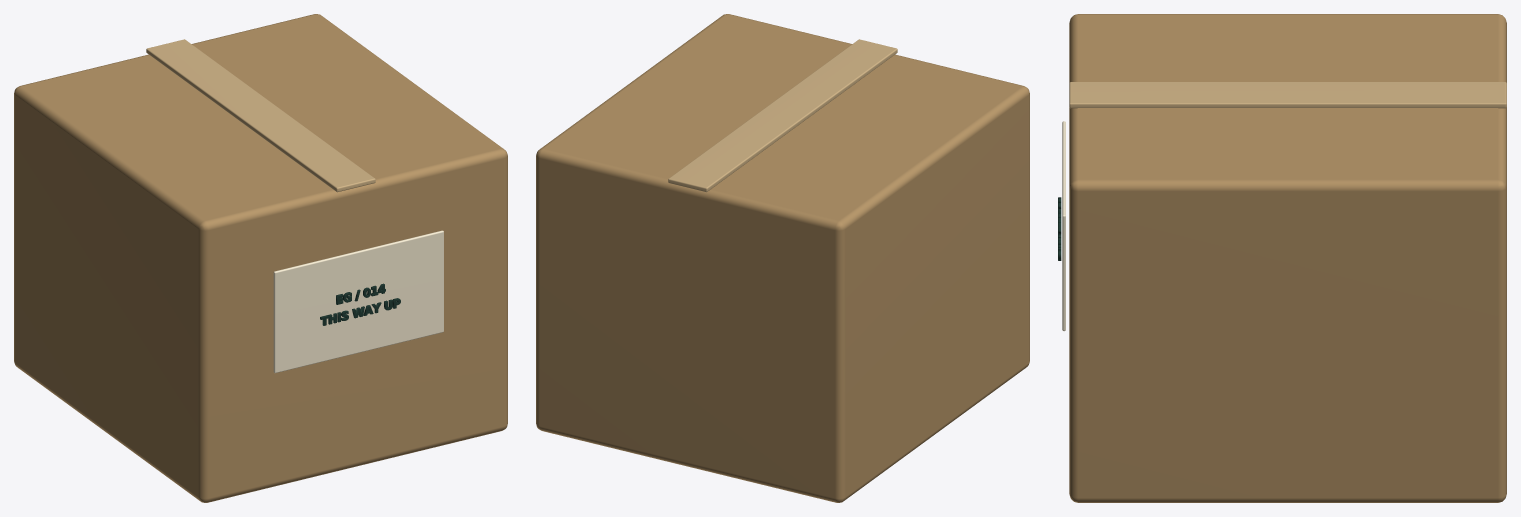
Rendered from SM_EG_ShippingCarton_Floor_691d3a8c95.fbx.
3 views of the same model, side by side, from view 1: azimuth 30°, elevation 25°; view 2: azimuth 150°, elevation 25°; view 3: azimuth 270°, elevation 25° (orthographic). The views are drawn at different scales.
Visible parts, largest first — view 1: SM_EG_ShippingCarton_Floor_691d3a8c95; view 2: SM_EG_ShippingCarton_Floor_691d3a8c95; view 3: SM_EG_ShippingCarton_Floor_691d3a8c95.
Part boxes in pixels (x1,y1,x2,y2): SM_EG_ShippingCarton_Floor_691d3a8c95: (14, 14, 507, 502); SM_EG_ShippingCarton_Floor_691d3a8c95: (536, 14, 1029, 502); SM_EG_ShippingCarton_Floor_691d3a8c95: (1058, 14, 1506, 502).
Size of what is drawn, in the model's own units: 55 by 60.52 by 48.7.
